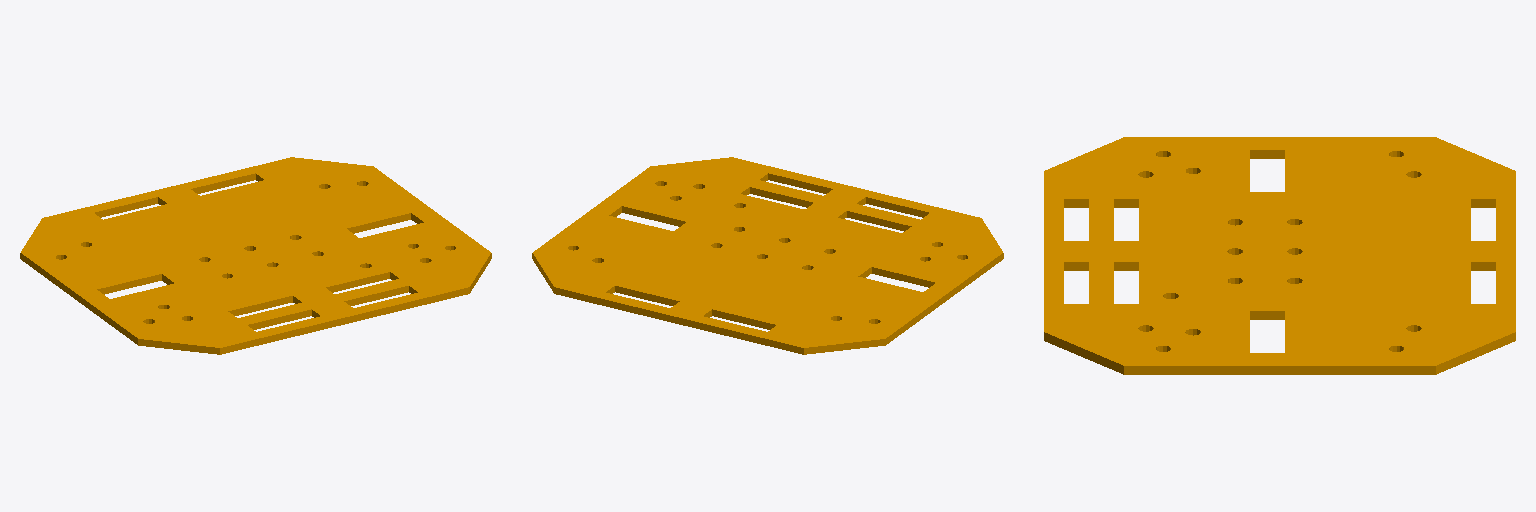
The robot description file, URDF, robot "bipedal":
<?xml version="1.0" ?>
<robot name="bipedal">

<material name="silver">
  <color rgba="0.700 0.700 0.700 1.000"/>
</material>

<material name="blue">
  <color rgba="0.700 0.100 0.700 1.000"/>
</material>

<link name="base_link">
  <inertial>
    <origin xyz="-0.07139043603557767 -0.16954551899156534 0.300032870177832" rpy="0 0 0"/>
    <mass value="0.13857256283713892"/>
    <inertia ixx="9.334774124638429e-05" iyy="0.0001300594976052366" izz="0.00022331485714314082" ixy="-6.131072598073752e-08" iyz="-9.540979117872439e-18" ixz="7.806255641895632e-18"/>
  </inertial>
  <visual>
    <origin xyz="0 0 0" rpy="0 0 0"/>
    <geometry>
      <mesh filename="meshes/base_link.stl" scale="0.001 0.001 0.001"/>
    </geometry>
    <material name="silver"/>
    <material/>
  </visual>
  <collision>
    <origin xyz="0 0 0" rpy="0 0 0"/>
    <geometry>
      <mesh filename="meshes/base_link.stl" scale="0.001 0.001 0.001"/>
    </geometry>
  </collision>
</link>

<link name="angleL2">
  <inertial>
    <origin xyz="-7.310110415603699e-08 0.00019543773498767458 -0.012367894246249456" rpy="0 0 0"/>
    <mass value="0.055302620656788114"/>
    <inertia ixx="2.8853277508819435e-05" iyy="1.0107535652667272e-05" izz="2.3303786714633668e-05" ixy="1.6263032587282567e-19" iyz="1.794109458414829e-07" ixz="2.2442984970449942e-17"/>
  </inertial>
  <visual>
    <origin xyz="0.034621 0.197396 -0.259033" rpy="0 0 0"/>
    <geometry>
      <mesh filename="meshes/angleL2.stl" scale="0.001 0.001 0.001"/>
    </geometry>
    <material name="silver"/>
    <material/>
  </visual>
  <collision>
    <origin xyz="0.034621 0.197396 -0.259033" rpy="0 0 0"/>
    <geometry>
      <mesh filename="meshes/angleL2.stl" scale="0.001 0.001 0.001"/>
    </geometry>
  </collision>
</link>

<link name="angleR1">
  <inertial>
    <origin xyz="-7.310110577973816e-08 0.00019543773499539063 -0.01236789424624854" rpy="0 0 0"/>
    <mass value="0.055302620656792215"/>
    <inertia ixx="2.8853277508822037e-05" iyy="1.0107535652662501e-05" izz="2.330378671464668e-05" ixy="-4.336808689942018e-18" iyz="1.794109458393145e-07" ixz="2.5370330836160804e-17"/>
  </inertial>
  <visual>
    <origin xyz="0.111621 0.197396 -0.259233" rpy="0 0 0"/>
    <geometry>
      <mesh filename="meshes/angleR1.stl" scale="0.001 0.001 0.001"/>
    </geometry>
    <material name="silver"/>
    <material/>
  </visual>
  <collision>
    <origin xyz="0.111621 0.197396 -0.259233" rpy="0 0 0"/>
    <geometry>
      <mesh filename="meshes/angleR1.stl" scale="0.001 0.001 0.001"/>
    </geometry>
  </collision>
</link>

<link name="fixed_motorR_v11">
  <inertial>
    <origin xyz="0.00039183355538857656 0.016721166829037876 -0.005951317771388298" rpy="0 0 0"/>
    <mass value="0.3642794428368541"/>
    <inertia ixx="8.985014179405809e-05" iyy="0.00010326952603981546" izz="6.864312589224472e-05" ixy="-1.7544987531356582e-06" iyz="-6.087616118075068e-07" ixz="-2.0915034182871634e-06"/>
  </inertial>
  <visual>
    <origin xyz="0.111621 0.218396 -0.230233" rpy="0 0 0"/>
    <geometry>
      <mesh filename="meshes/fixed_motorR_v11.stl" scale="0.001 0.001 0.001"/>
    </geometry>
    <material name="silver"/>
    <material/>
  </visual>
  <collision>
    <origin xyz="0.111621 0.218396 -0.230233" rpy="0 0 0"/>
    <geometry>
      <mesh filename="meshes/fixed_motorR_v11.stl" scale="0.001 0.001 0.001"/>
    </geometry>
  </collision>
</link>

<link name="fixed_motorL_v1_11">
  <inertial>
    <origin xyz="0.0003918335553906166 0.016721166829029993 -0.005951317771388548" rpy="0 0 0"/>
    <mass value="0.3642794428368541"/>
    <inertia ixx="8.985014179405115e-05" iyy="0.00010326952603981199" izz="6.864312589224646e-05" ixy="-1.7544987531356582e-06" iyz="-6.087616118075068e-07" ixz="-2.091503418286296e-06"/>
  </inertial>
  <visual>
    <origin xyz="0.034621 0.218396 -0.230033" rpy="0 0 0"/>
    <geometry>
      <mesh filename="meshes/fixed_motorL_v1_11.stl" scale="0.001 0.001 0.001"/>
    </geometry>
    <material name="silver"/>
    <material/>
  </visual>
  <collision>
    <origin xyz="0.034621 0.218396 -0.230033" rpy="0 0 0"/>
    <geometry>
      <mesh filename="meshes/fixed_motorL_v1_11.stl" scale="0.001 0.001 0.001"/>
    </geometry>
  </collision>
</link>

<link name="knee_angleR_v11">
  <inertial>
    <origin xyz="0.021250423220924616 -4.0230865386292614e-07 -0.03382962134806375" rpy="0 0 0"/>
    <mass value="0.058088429592991084"/>
    <inertia ixx="2.9086068087361486e-05" iyy="5.066664926590579e-05" izz="2.629108909155695e-05" ixy="0.0" iyz="-8.673617379884035e-19" ixz="4.336808689942018e-18"/>
  </inertial>
  <visual>
    <origin xyz="0.130071 0.200632 -0.235936" rpy="0 0 0"/>
    <geometry>
      <mesh filename="meshes/knee_angleR_v11.stl" scale="0.001 0.001 0.001"/>
    </geometry>
    <material name="silver"/>
    <material/>
  </visual>
  <collision>
    <origin xyz="0.130071 0.200632 -0.235936" rpy="0 0 0"/>
    <geometry>
      <mesh filename="meshes/knee_angleR_v11.stl" scale="0.001 0.001 0.001"/>
    </geometry>
  </collision>
</link>

<link name="motor_kneeR_v11">
  <inertial>
    <origin xyz="3.0012713926955148e-05 -3.984803187417896e-07 -0.028119792088942303" rpy="0 0 0"/>
    <mass value="0.3655195920887556"/>
    <inertia ixx="0.00010105902722260321" iyy="0.00011795075956257985" izz="6.38235113882904e-05" ixy="1.7380392264287892e-11" iyz="-3.295933491409553e-11" ixz="-1.4133468966767704e-06"/>
  </inertial>
  <visual>
    <origin xyz="0.108821 0.200632 -0.177036" rpy="0 0 0"/>
    <geometry>
      <mesh filename="meshes/motor_kneeR_v11.stl" scale="0.001 0.001 0.001"/>
    </geometry>
    <material name="silver"/>
    <material/>
  </visual>
  <collision>
    <origin xyz="0.108821 0.200632 -0.177036" rpy="0 0 0"/>
    <geometry>
      <mesh filename="meshes/motor_kneeR_v11.stl" scale="0.001 0.001 0.001"/>
    </geometry>
  </collision>
</link>

<link name="knee_angleL1">
  <inertial>
    <origin xyz="-0.02124957677907323 -4.02308661523465e-07 -0.03382962134806419" rpy="0 0 0"/>
    <mass value="0.058088429592991084"/>
    <inertia ixx="2.9086068087362353e-05" iyy="5.066664926590579e-05" izz="2.6291089091557383e-05" ixy="0.0" iyz="0.0" ixz="4.065758146820642e-18"/>
  </inertial>
  <visual>
    <origin xyz="0.011221 0.200632 -0.235736" rpy="0 0 0"/>
    <geometry>
      <mesh filename="meshes/knee_angleL1.stl" scale="0.001 0.001 0.001"/>
    </geometry>
    <material name="silver"/>
    <material/>
  </visual>
  <collision>
    <origin xyz="0.011221 0.200632 -0.235736" rpy="0 0 0"/>
    <geometry>
      <mesh filename="meshes/knee_angleL1.stl" scale="0.001 0.001 0.001"/>
    </geometry>
  </collision>
</link>

<link name="below-kneeL_v11">
  <inertial>
    <origin xyz="-0.020749576779086787 -0.005508311892402112 -0.04589658108169638" rpy="0 0 0"/>
    <mass value="0.07171879062702044"/>
    <inertia ixx="7.614988197868298e-05" iyy="9.864979757538109e-05" izz="3.348288885569959e-05" ixy="2.6020852139652106e-18" iyz="2.427192941159735e-06" ixz="5.095750210681871e-18"/>
  </inertial>
  <visual>
    <origin xyz="0.089571 0.200632 -0.135436" rpy="0 0 0"/>
    <geometry>
      <mesh filename="meshes/below-kneeL_v11.stl" scale="0.001 0.001 0.001"/>
    </geometry>
    <material name="silver"/>
    <material/>
  </visual>
  <collision>
    <origin xyz="0.089571 0.200632 -0.135436" rpy="0 0 0"/>
    <geometry>
      <mesh filename="meshes/below-kneeL_v11.stl" scale="0.001 0.001 0.001"/>
    </geometry>
  </collision>
</link>

<link name="motor_kneeL1">
  <inertial>
    <origin xyz="-2.9166272081215805e-05 -4.0613699664460157e-07 -0.028119800958348012" rpy="0 0 0"/>
    <mass value="0.3655195920887555"/>
    <inertia ixx="0.00010105876708862635" iyy="0.00011795049942860299" izz="6.382351138828866e-05" ixy="1.7380391830607023e-11" iyz="7.413200088512983e-11" ixz="1.4133891378406791e-06"/>
  </inertial>
  <visual>
    <origin xyz="0.032471 0.200632 -0.176836" rpy="0 0 0"/>
    <geometry>
      <mesh filename="meshes/motor_kneeL1.stl" scale="0.001 0.001 0.001"/>
    </geometry>
    <material name="silver"/>
    <material/>
  </visual>
  <collision>
    <origin xyz="0.032471 0.200632 -0.176836" rpy="0 0 0"/>
    <geometry>
      <mesh filename="meshes/motor_kneeL1.stl" scale="0.001 0.001 0.001"/>
    </geometry>
  </collision>
</link>

<link name="below-kneeR_v1_11">
  <inertial>
    <origin xyz="0.020750423220910474 -0.005508311892410106 -0.04589658108170622" rpy="0 0 0"/>
    <mass value="0.07171879062702044"/>
    <inertia ixx="7.614988197868298e-05" iyy="9.864979757538109e-05" izz="3.3482888855699156e-05" ixy="2.3852447794681098e-18" iyz="2.4271929411595183e-06" ixz="8.185726402265558e-18"/>
  </inertial>
  <visual>
    <origin xyz="0.051721 0.200632 -0.135236" rpy="0 0 0"/>
    <geometry>
      <mesh filename="meshes/below-kneeR_v1_11.stl" scale="0.001 0.001 0.001"/>
    </geometry>
    <material name="silver"/>
    <material/>
  </visual>
  <collision>
    <origin xyz="0.051721 0.200632 -0.135236" rpy="0 0 0"/>
    <geometry>
      <mesh filename="meshes/below-kneeR_v1_11.stl" scale="0.001 0.001 0.001"/>
    </geometry>
  </collision>
</link>

<link name="lower_motorR_v11">
  <inertial>
    <origin xyz="0.022629463427445873 -0.0015901334431804304 -0.011247770886518745" rpy="0 0 0"/>
    <mass value="0.3723917469007978"/>
    <inertia ixx="9.532977742557694e-05" iyy="0.00010575949836121555" izz="7.439031097003154e-05" ixy="-1.7188906561993456e-08" iyz="1.806096631585142e-06" ixz="1.437447658839434e-06"/>
  </inertial>
  <visual>
    <origin xyz="0.131071 0.200632 -0.035436" rpy="0 0 0"/>
    <geometry>
      <mesh filename="meshes/lower_motorR_v11.stl" scale="0.001 0.001 0.001"/>
    </geometry>
    <material name="silver"/>
    <material/>
  </visual>
  <collision>
    <origin xyz="0.131071 0.200632 -0.035436" rpy="0 0 0"/>
    <geometry>
      <mesh filename="meshes/lower_motorR_v11.stl" scale="0.001 0.001 0.001"/>
    </geometry>
  </collision>
</link>

<link name="lower_motorR_v1_11">
  <inertial>
    <origin xyz="0.02262946342744819 -0.001590133443188202 -0.011247770886528494" rpy="0 0 0"/>
    <mass value="0.3723917469007978"/>
    <inertia ixx="9.532977742557694e-05" iyy="0.00010575949836121642" izz="7.439031097003154e-05" ixy="-1.718890656459554e-08" iyz="1.8060966315855756e-06" ixz="1.4374476588414399e-06"/>
  </inertial>
  <visual>
    <origin xyz="0.051721 0.200632 -0.035236" rpy="0 0 0"/>
    <geometry>
      <mesh filename="meshes/lower_motorR_v1_11.stl" scale="0.001 0.001 0.001"/>
    </geometry>
    <material name="silver"/>
    <material/>
  </visual>
  <collision>
    <origin xyz="0.051721 0.200632 -0.035236" rpy="0 0 0"/>
    <geometry>
      <mesh filename="meshes/lower_motorR_v1_11.stl" scale="0.001 0.001 0.001"/>
    </geometry>
  </collision>
</link>

<link name="feetR_v11">
  <inertial>
    <origin xyz="0.004049519314478431 0.017461467081004323 -0.029474003512867115" rpy="0 0 0"/>
    <mass value="0.17675714575126572"/>
    <inertia ixx="0.0001797183170220715" iyy="7.930603923658351e-05" izz="0.00021805293391331977" ixy="1.155353889772167e-06" iyz="-5.520206361789813e-07" ixz="3.6865173211963022e-06"/>
  </inertial>
  <visual>
    <origin xyz="0.108471 0.221432 -0.035436" rpy="0 0 0"/>
    <geometry>
      <mesh filename="meshes/feetR_v11.stl" scale="0.001 0.001 0.001"/>
    </geometry>
    <material name="silver"/>
    <material/>
  </visual>
  <collision>
    <origin xyz="0.108471 0.221432 -0.035436" rpy="0 0 0"/>
    <geometry>
      <mesh filename="meshes/feetR_v11.stl" scale="0.001 0.001 0.001"/>
    </geometry>
  </collision>
</link>

<link name="feetLv1_11">
  <inertial>
    <origin xyz="4.951931448205285e-05 0.017461467080996357 -0.029474003512876445" rpy="0 0 0"/>
    <mass value="0.17675714575126572"/>
    <inertia ixx="0.00017971831702207064" iyy="7.930603923658326e-05" izz="0.00021805293391331717" ixy="1.1553538897730344e-06" iyz="-5.520206361792795e-07" ixz="3.686517321193287e-06"/>
  </inertial>
  <visual>
    <origin xyz="0.027521 0.221432 -0.035236" rpy="0 0 0"/>
    <geometry>
      <mesh filename="meshes/feetLv1_11.stl" scale="0.001 0.001 0.001"/>
    </geometry>
    <material name="silver"/>
    <material/>
  </visual>
  <collision>
    <origin xyz="0.027521 0.221432 -0.035236" rpy="0 0 0"/>
    <geometry>
      <mesh filename="meshes/feetLv1_11.stl" scale="0.001 0.001 0.001"/>
    </geometry>
  </collision>
</link>

<link name="motorR_11">
  <inertial>
    <origin xyz="-8.078857149228236e-05 0.012567249044730222 -0.020044065037984393" rpy="0 0 0"/>
    <mass value="0.328829831780374"/>
    <inertia ixx="9.777785485510365e-05" iyy="5.235895358417578e-05" izz="8.310749541756701e-05" ixy="-2.591068321055115e-07" iyz="-2.1957483612028428e-06" ixz="-2.9020180450541055e-07"/>
  </inertial>
  <visual>
    <origin xyz="0.109871 0.187896 -0.299033" rpy="0 0 0"/>
    <geometry>
      <mesh filename="meshes/motorR_11.stl" scale="0.001 0.001 0.001"/>
    </geometry>
    <material name="silver"/>
    <material/>
  </visual>
  <collision>
    <origin xyz="0.109871 0.187896 -0.299033" rpy="0 0 0"/>
    <geometry>
      <mesh filename="meshes/motorR_11.stl" scale="0.001 0.001 0.001"/>
    </geometry>
  </collision>
</link>

<link name="motorL_1">
  <inertial>
    <origin xyz="-8.078823321150397e-05 0.012567249339670683 -0.020044064557731722" rpy="0 0 0"/>
    <mass value="0.3288298236863838"/>
    <inertia ixx="9.777783053127598e-05" iyy="5.235894220499346e-05" izz="8.310747928435419e-05" ixy="-2.591007643082052e-07" iyz="-2.195755937496602e-06" ixz="-2.9020329900915007e-07"/>
  </inertial>
  <visual>
    <origin xyz="0.032871 0.187896 -0.299033" rpy="0 0 0"/>
    <geometry>
      <mesh filename="meshes/motorL_1.stl" scale="0.001 0.001 0.001"/>
    </geometry>
    <material name="silver"/>
    <material/>
  </visual>
  <collision>
    <origin xyz="0.032871 0.187896 -0.299033" rpy="0 0 0"/>
    <geometry>
      <mesh filename="meshes/motorL_1.stl" scale="0.001 0.001 0.001"/>
    </geometry>
  </collision>
</link>

<joint name="motorL_joint" type="revolute">
  <origin xyz="-0.00175 -0.0095 -0.04" rpy="0 0 0"/>
  <parent link="motorL_1"/>
  <child link="angleL2"/>
  <axis xyz="0.0 -0.0 -1.0"/>
  <limit upper="1.349066" lower="-1.349066" effort="100" velocity="100"/>
</joint>


<joint name="motorR_joint" type="revolute">
  <origin xyz="-0.00175 -0.0095 -0.0398" rpy="0 0 0"/>
  <parent link="motorR_11"/>
  <child link="angleR1"/>
  <axis xyz="0.0 -0.0 -1.0"/>
  <limit upper="1.349066" lower="-1.349066" effort="100" velocity="100"/>
</joint>

<joint name="Rigid38" type="fixed">
  <origin xyz="0.0 -0.021 -0.029" rpy="0 0 0"/>
  <parent link="angleR1"/>
  <child link="fixed_motorR_v11"/>
</joint>

<joint name="Rigid42" type="fixed">
  <origin xyz="0.0 -0.021 -0.029" rpy="0 0 0"/>
  <parent link="angleL2"/>
  <child link="fixed_motorL_v1_11"/>
</joint>

<joint name="thighR_joint" type="revolute">
  <origin xyz="-0.01845 0.017764 0.005703" rpy="0 0 0"/>
  <parent link="fixed_motorR_v11"/>
  <child link="knee_angleR_v11"/>
  <axis xyz="-1.0 0.0 0.0"/>
  <limit upper="1.349066" lower="-1.349066" effort="100" velocity="100"/>
</joint>

<joint name="Rigid56" type="fixed">
  <origin xyz="0.02125 0.0 -0.0589" rpy="0 0 0"/>
  <parent link="knee_angleR_v11"/>
  <child link="motor_kneeR_v11"/>
</joint>

<joint name="thighL_joint" type="revolute">
  <origin xyz="0.0234 0.017764 0.005703" rpy="0 0 0"/>
  <!-- <origin xyz="-0.01845 0.017764 0.005703" rpy="0 0 0"/> -->
  <parent link="fixed_motorL_v1_11"/>
  <child link="knee_angleL1"/>
  <axis xyz="1.0 0.0 0.0"/>
  <limit upper="1.349066" lower="-1.349066" effort="100" velocity="100"/>
</joint>

<joint name="kneeR_joint" type="revolute">
  <origin xyz="0.01925 0.0 -0.0416" rpy="0 0 0"/>
  <parent link="motor_kneeR_v11"/>
  <child link="below-kneeL_v11"/>
  <axis xyz="-1.0 0.0 -0.0"/>
  <limit upper="1.349066" lower="-1.349066" effort="100" velocity="100"/>
</joint>


<joint name="Rigid61" type="fixed">
  <origin xyz="-0.02125 0.0 -0.0589" rpy="0 0 0"/>
  <parent link="knee_angleL1"/>
  <child link="motor_kneeL1"/>
</joint>

<joint name="kneeL_joint" type="revolute">
  <origin xyz="-0.01925 0.0 -0.0416" rpy="0 0 0"/>
  <parent link="motor_kneeL1"/>
  <child link="below-kneeR_v1_11"/> 
  <axis xyz="1.0 -0.0 0.0"/>
  <limit upper="1.349066" lower="-1.349066" effort="100" velocity="100"/>
</joint>

<transmission name="kneeL_joint_tran">
  <type>transmission_interface/SimpleTransmission</type>
  <joint name="kneeL_joint">
    <hardwareInterface>PositionJointInterface</hardwareInterface>
  </joint>
  <actuator name="kneeL_joint_actr">
    <hardwareInterface>PositionJointInterface</hardwareInterface>
    <mechanicalReduction>1</mechanicalReduction>
  </actuator>
</transmission>

<joint name="feetR_joint" type="revolute">
  <origin xyz="-0.0415 0.0 -0.1" rpy="0 0 0"/>
  <parent link="below-kneeL_v11"/>
  <child link="lower_motorR_v11"/>
  <axis xyz="-1.0 0.0 -0.0"/>
  <limit upper="1.349066" lower="-1.349066" effort="100" velocity="100"/>
</joint>

<transmission name="feetR_joint_tran">
  <type>transmission_interface/SimpleTransmission</type>
  <joint name="feetR_joint">
    <hardwareInterface>PositionJointInterface</hardwareInterface>
  </joint>
  <actuator name="feetR_joint_actr">
    <hardwareInterface>PositionJointInterface</hardwareInterface>
    <mechanicalReduction>1</mechanicalReduction>
  </actuator>
</transmission>

<joint name="feetL_joint" type="revolute">
  <origin xyz="0.0 0.0 -0.1" rpy="0 0 0"/>
  <parent link="below-kneeR_v1_11"/>
  <child link="lower_motorR_v1_11"/>
  <axis xyz="1.0 0.0 -0.0"/>
  <limit upper="1.349066" lower="-1.349066" effort="100" velocity="100"/>
</joint>

<transmission name="feetL_joint_tran">
  <type>transmission_interface/SimpleTransmission</type>
  <joint name="feetL_joint">
    <hardwareInterface>PositionJointInterface</hardwareInterface>
  </joint>
  <actuator name="feetL_joint_actr">
    <hardwareInterface>PositionJointInterface</hardwareInterface>
    <mechanicalReduction>1</mechanicalReduction>
  </actuator>
</transmission>

<joint name="Rigid66" type="fixed">
  <origin xyz="0.0226 -0.0208 0.0" rpy="0 0 0"/>
  <parent link="lower_motorR_v11"/>
  <child link="feetR_v11"/>
</joint>

<joint name="Rigid67" type="fixed">
  <origin xyz="0.0242 -0.0208 0.0" rpy="0 0 0"/>
  <parent link="lower_motorR_v1_11"/>
  <child link="feetLv1_11"/>
</joint>

<joint name="Rigid68" type="fixed">
  <origin xyz="-0.109871 -0.187896 0.299033" rpy="0 0 0"/>
  <parent link="base_link"/>
  <child link="motorR_11"/>
</joint>

<joint name="Rigid69" type="fixed">
  <origin xyz="-0.032871 -0.187896 0.299033" rpy="0 0 0"/>
  <parent link="base_link"/>
  <child link="motorL_1"/>
</joint>

</robot>

--- Facts derived from the render (not from the file) ---
The picture shows the robot from 3 angles, left to right: view 1: azimuth 30°, elevation 25°; view 2: azimuth 150°, elevation 25°; view 3: azimuth 270°, elevation 25°; orthographic projection.
Robot: bipedal — 17 links, 16 joints (8 revolute, 8 fixed); root link base_link; default pose: every joint at zero.
Visible links, largest first — view 1: base_link; view 2: base_link; view 3: base_link.
Link boxes in pixels (x1=…): base_link: x1=20, y1=157, x2=491, y2=354; base_link: x1=532, y1=157, x2=1003, y2=354; base_link: x1=1044, y1=137, x2=1515, y2=374.
Size in the robot's own frame: 0.109 by 0.095 by 0.002 metres.
Meshes: 17 distinct files referenced, 1 mesh visuals loaded (1 binary STL); not drawn: 16 (reference not matched to a file when rendering).